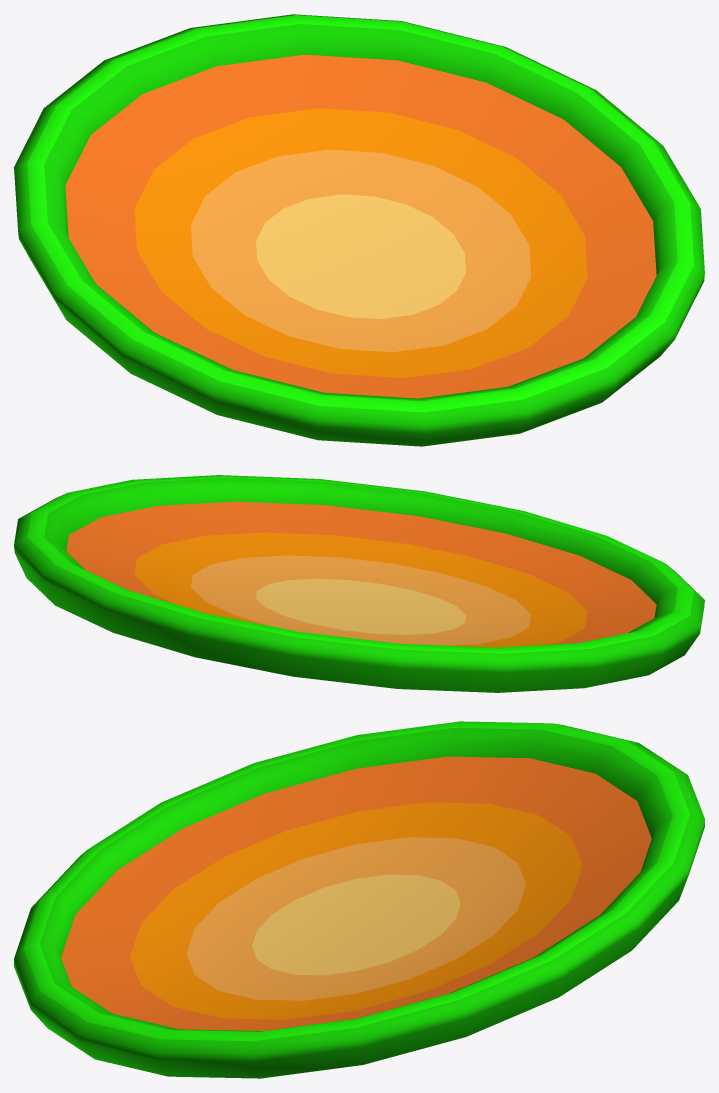
The model's file is CPI_D_FBX_08_Portal_A.fbx.
3 renders of one model, top to bottom at view 1: azimuth 30°, elevation 25°; view 2: azimuth 150°, elevation 25°; view 3: azimuth 270°, elevation 25°, orthographic. The views are drawn at different scales.
Visible parts, largest first — view 1: CPI_D_FBX_08_Portal_A; view 2: CPI_D_FBX_08_Portal_A; view 3: CPI_D_FBX_08_Portal_A.
Part boxes in pixels (x1,y1,x2,y2): CPI_D_FBX_08_Portal_A: (14, 14, 704, 446); CPI_D_FBX_08_Portal_A: (14, 475, 704, 692); CPI_D_FBX_08_Portal_A: (14, 721, 704, 1078).
Size of the model in its own units: 2.36 by 0.628 by 2.27.
